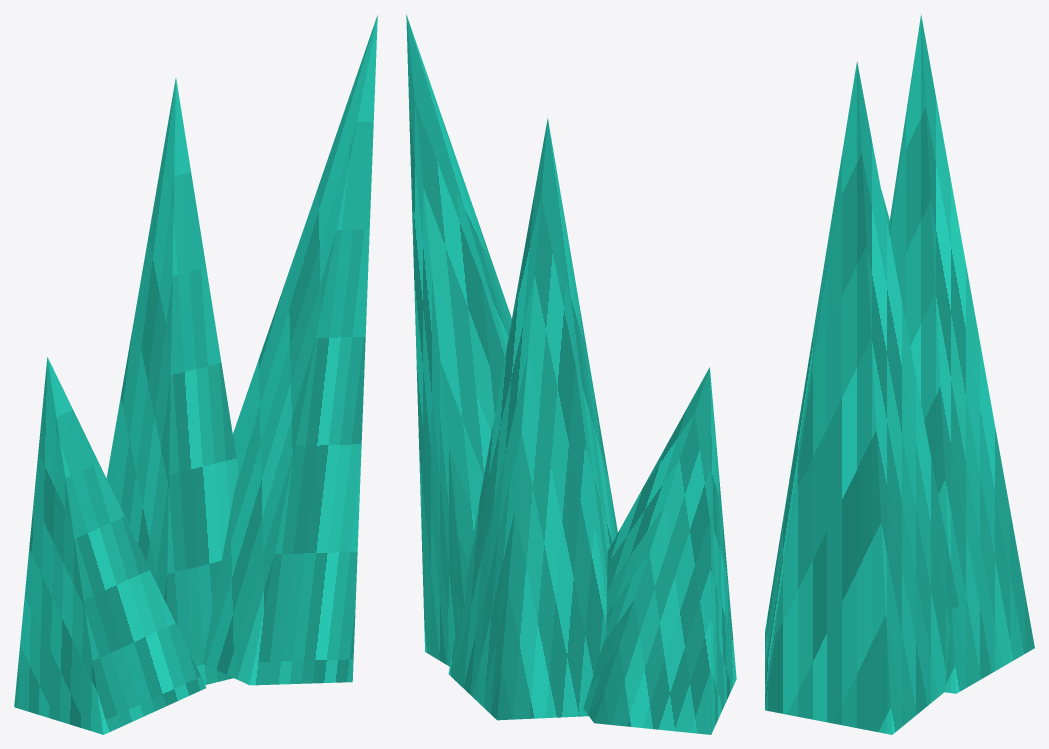
Rendered from crystal_31.glb.
The picture shows the model from 3 angles, left to right: view 1: azimuth 30°, elevation 25°; view 2: azimuth 150°, elevation 25°; view 3: azimuth 270°, elevation 25°; orthographic projection. The views are drawn at different scales.
Visible parts, largest first — view 1: Jade.002, Jade.001, Jade; view 2: Jade.001, Jade.002, Jade; view 3: Jade.002, Jade.001.
Part boxes in pixels (x1,y1,x2,y2): Jade.002: (202, 15, 377, 685); Jade.001: (106, 78, 238, 684); Jade: (14, 357, 206, 734); Jade.001: (448, 118, 617, 720); Jade.002: (406, 14, 511, 666); Jade: (583, 367, 736, 734); Jade.002: (765, 61, 958, 734); Jade.001: (888, 14, 1034, 693).
Bounding box in the file's own units: 0.8295 × 1.48 × 0.5218.
1 material, 1 textured.
